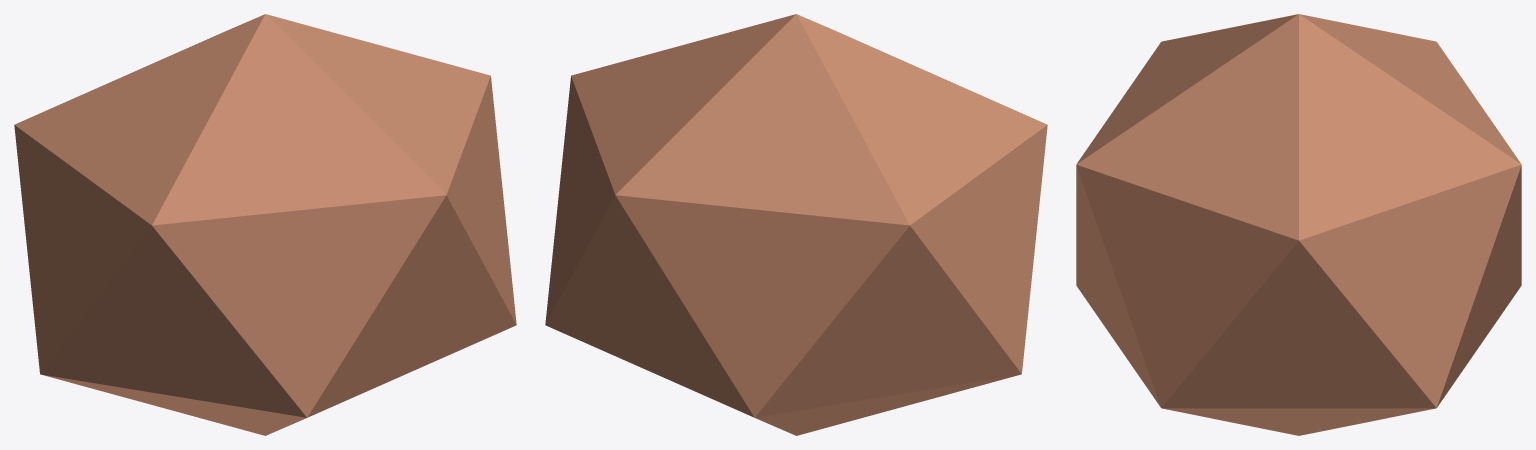
The model's file is iron_ore.glb.
3 views of the same model, side by side, from view 1: azimuth 30°, elevation 25°; view 2: azimuth 150°, elevation 25°; view 3: azimuth 270°, elevation 25° (orthographic).
Visible parts, largest first — view 1: iron_ore; view 2: iron_ore; view 3: iron_ore.
Boxes of the visible parts, x1,y1,x2,y2 form: iron_ore: (14, 14, 516, 435); iron_ore: (545, 14, 1047, 435); iron_ore: (1076, 14, 1521, 435).
Size of the model in its own units: 0.1431 by 0.128 by 0.1225.
